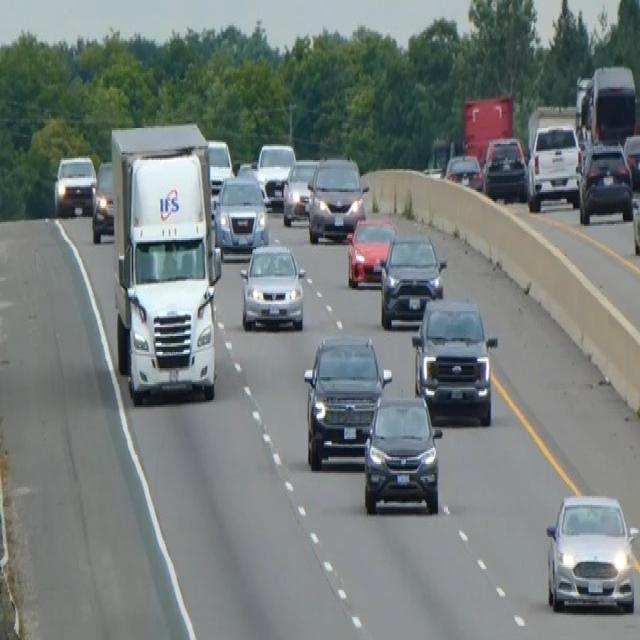car: (303, 331, 391, 469), (544, 491, 638, 613), (411, 295, 497, 425), (362, 391, 442, 516), (379, 229, 446, 329), (239, 240, 305, 331), (306, 154, 368, 243), (527, 121, 582, 208), (577, 139, 633, 224), (215, 172, 269, 255), (345, 213, 396, 288), (482, 135, 528, 201), (53, 153, 96, 217), (256, 140, 295, 207), (281, 156, 318, 226), (91, 158, 115, 242), (235, 160, 272, 208), (205, 137, 233, 195), (443, 151, 482, 192), (424, 135, 454, 178), (623, 132, 639, 188), (631, 176, 639, 256)
lorry: (108, 119, 223, 405)
